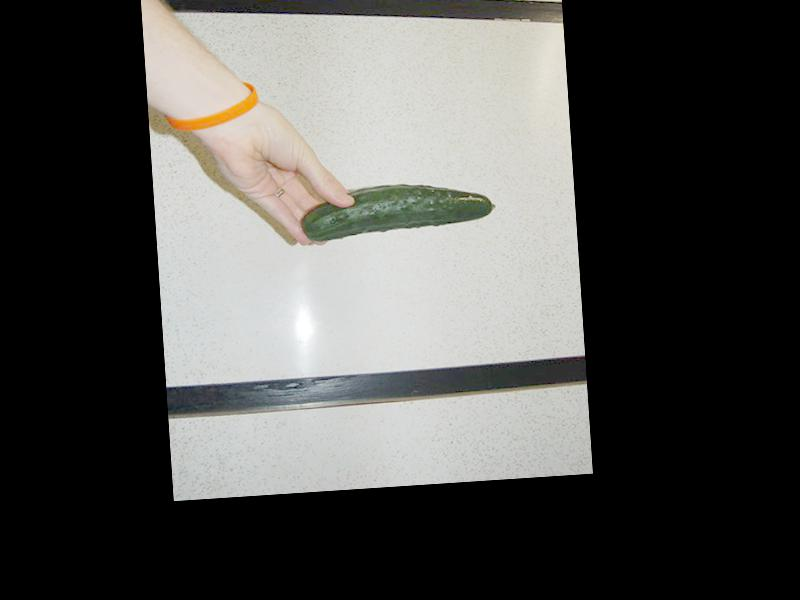Cucumber: (299, 180, 497, 243)
